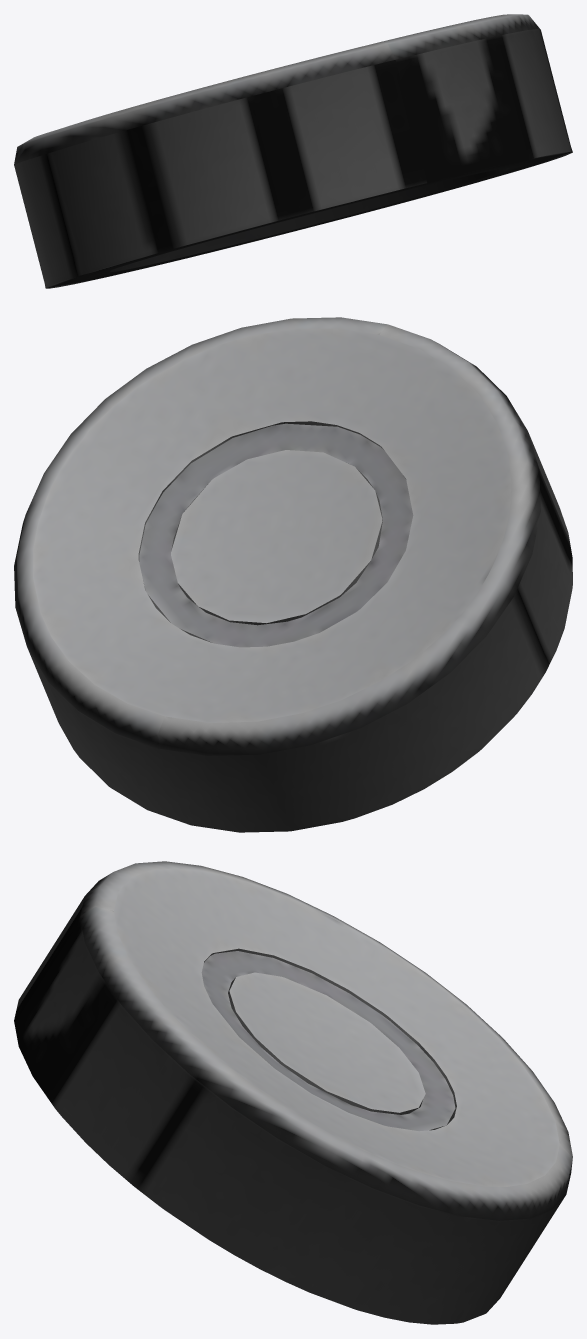
The model's file is button_enter.obj.
3 views of the same model, one above another, from view 1: azimuth 30°, elevation 25°; view 2: azimuth 150°, elevation 25°; view 3: azimuth 270°, elevation 25° (orthographic). The views are drawn at different scales.
Parts seen in each view (by area): view 1: button_enter.003; view 2: button_enter.003; view 3: button_enter.003.
Boxes of the visible parts, x1,y1,x2,y2 form: button_enter.003: (14,14,572,288); button_enter.003: (14,317,572,832); button_enter.003: (14,861,572,1324).
Bounding box in the file's own units: 0.01 × 0.00722 × 0.00986.
1 material, 1 textured.
